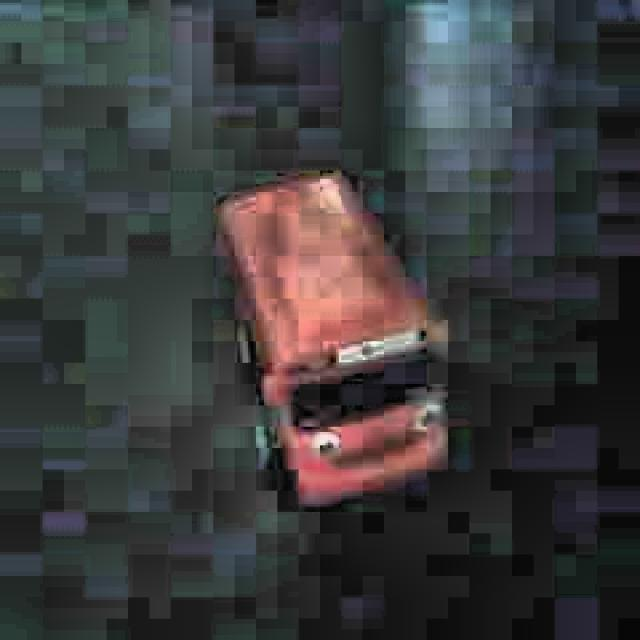bus: (200, 153, 460, 519)
